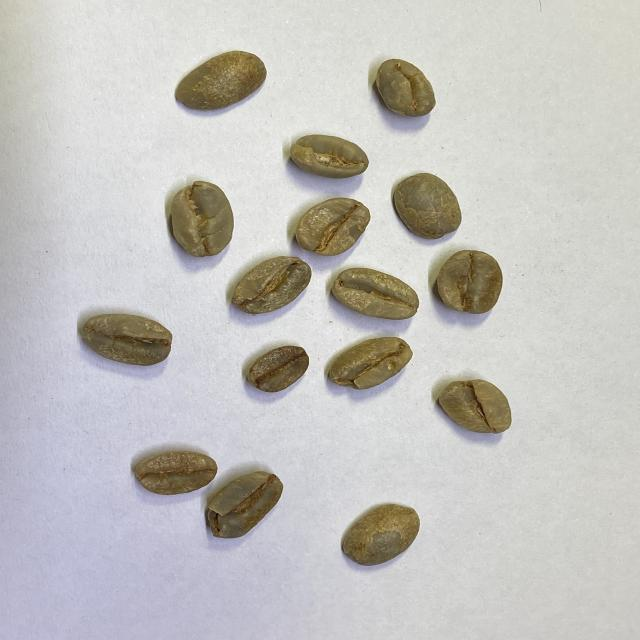bad: (162, 178, 236, 255), (206, 471, 286, 540), (330, 335, 414, 392), (441, 378, 515, 438), (289, 132, 370, 180)
good: (172, 48, 266, 113), (80, 310, 173, 367), (330, 266, 420, 322), (341, 504, 420, 567), (391, 172, 463, 240), (229, 256, 311, 314), (294, 196, 372, 255), (437, 248, 504, 316), (375, 57, 438, 119), (136, 452, 218, 496), (247, 344, 311, 392)
